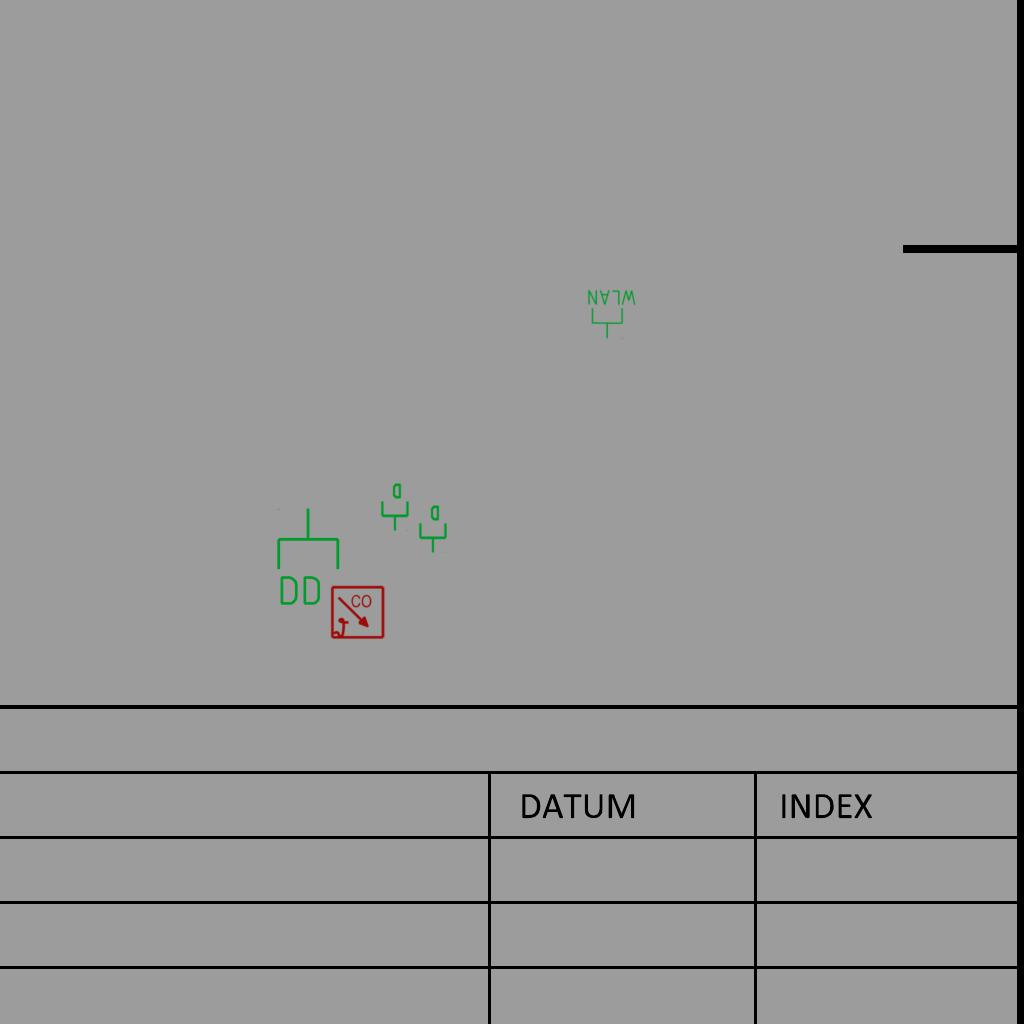Datenanschluss_einfach: (377, 482, 411, 532), (415, 504, 449, 554)
Datenanschluss_zweifach: (273, 506, 342, 609)
ROA_Rauchmelder_optisch_mit_Signalgeber_(Sockelsirene): (330, 585, 386, 641)
WLAN: (586, 288, 638, 340)
